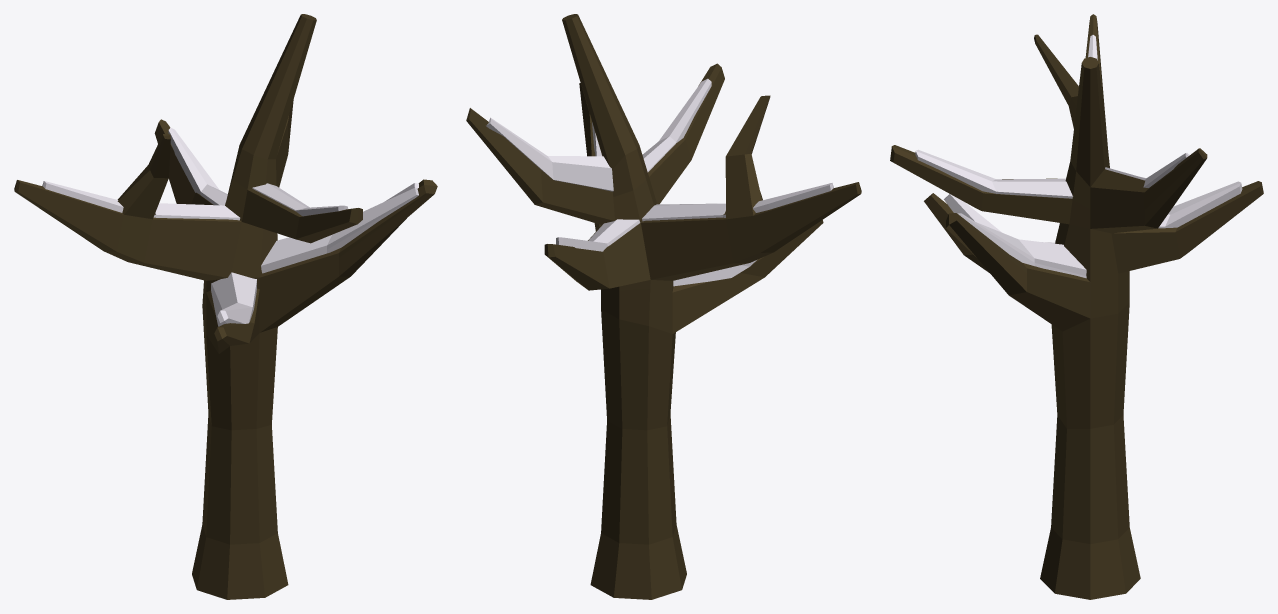
Rendered from Tree_4.fbx.
3 views of the same model, side by side, from view 1: azimuth 30°, elevation 25°; view 2: azimuth 150°, elevation 25°; view 3: azimuth 270°, elevation 25° (orthographic).
Visible parts, largest first — view 1: Arbre Hiver, Cylinder.003; view 2: Arbre Hiver, Cylinder.003; view 3: Arbre Hiver, Cylinder.003.
Boxes of the visible parts, bbox=[...] form: Arbre Hiver: bbox=[14, 14, 437, 599]; Cylinder.003: bbox=[42, 127, 418, 326]; Arbre Hiver: bbox=[466, 14, 861, 599]; Cylinder.003: bbox=[486, 78, 833, 286]; Arbre Hiver: bbox=[890, 14, 1263, 599]; Cylinder.003: bbox=[915, 35, 1242, 278].
Bounding box in the file's own units: 237 × 353 × 216.
